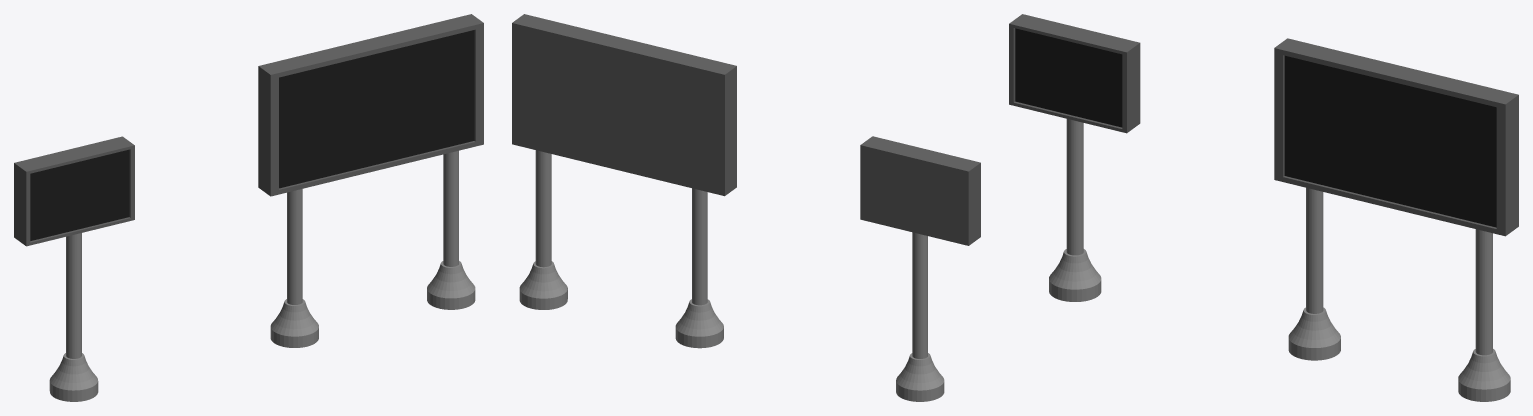
The model's file is billboards.fbx.
3 views of the same model, side by side, from view 1: azimuth 30°, elevation 25°; view 2: azimuth 150°, elevation 25°; view 3: azimuth 330°, elevation 25° (orthographic). The views are drawn at different scales.
Visible parts, largest first — view 1: Cylinder.003, Cylinder, Cylinder.002, Cylinder.001; view 2: Cylinder.003, Cylinder, Cylinder.002, Cylinder.001; view 3: Cylinder.003, Cylinder, Cylinder.002, Cylinder.001.
Part boxes in pixels (x1=…): Cylinder.003: x1=258, y1=14, x2=483, y2=196; Cylinder: x1=14, y1=136, x2=134, y2=246; Cylinder.002: x1=270, y1=150, x2=475, y2=347; Cylinder.001: x1=49, y1=233, x2=98, y2=401; Cylinder.003: x1=512, y1=14, x2=736, y2=196; Cylinder: x1=860, y1=136, x2=980, y2=245; Cylinder.002: x1=519, y1=150, x2=723, y2=348; Cylinder.001: x1=896, y1=232, x2=944, y2=401; Cylinder.003: x1=1274, y1=38, x2=1518, y2=236; Cylinder: x1=1009, y1=14, x2=1140, y2=133; Cylinder.002: x1=1288, y1=187, x2=1510, y2=401; Cylinder.001: x1=1049, y1=119, x2=1101, y2=301.
Size of the model in its own units: 2180 by 1253 by 200.
1 material, 1 textured.
